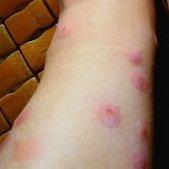Fleas: (125, 66, 160, 97), (135, 125, 149, 168), (96, 103, 120, 126), (128, 49, 146, 66), (58, 23, 69, 38), (16, 117, 26, 126)
